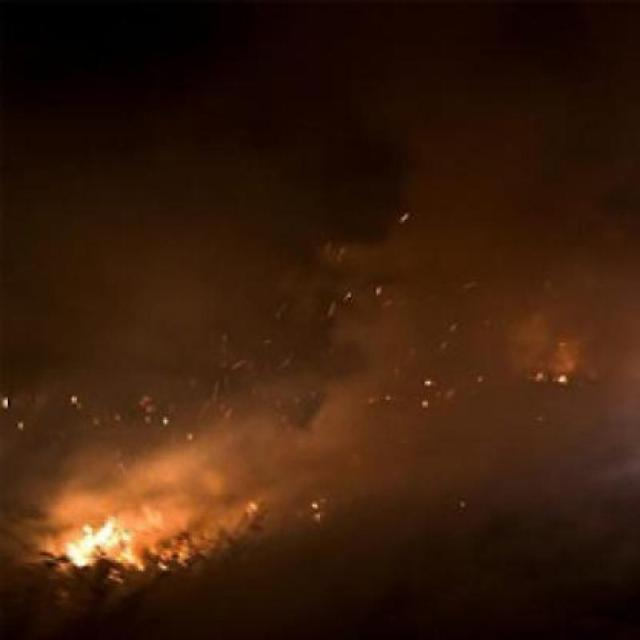Fire: (8, 389, 226, 586)
